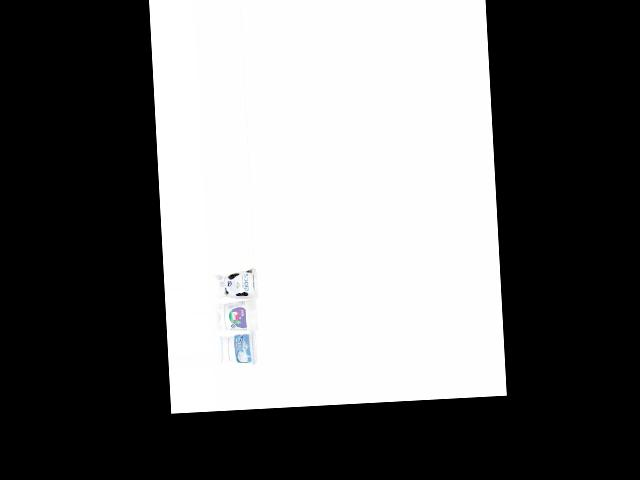cotage: (223, 330, 260, 366)
